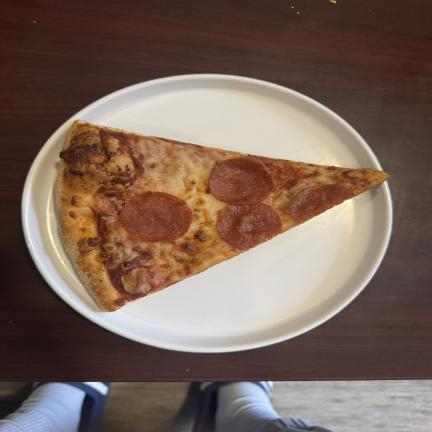pizza: (57, 121, 388, 311)
